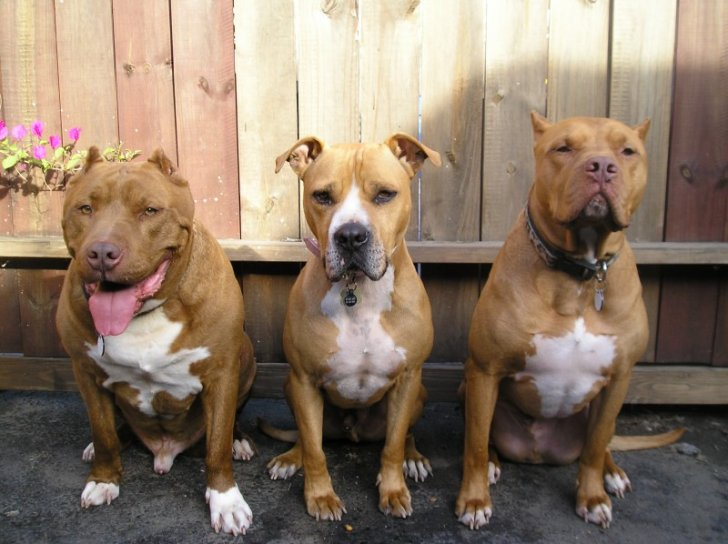dog: (453, 109, 687, 533), (52, 148, 265, 536), (271, 133, 442, 525)
